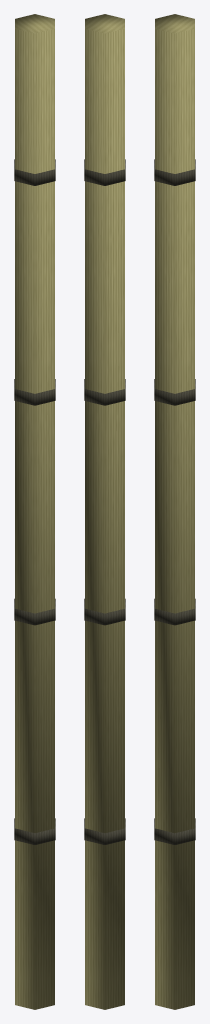
File: bung-stake.glb
3 views of the same model, side by side, from view 1: azimuth 30°, elevation 25°; view 2: azimuth 150°, elevation 25°; view 3: azimuth 330°, elevation 25° (orthographic).
Visible parts, largest first — view 1: bung-stake; view 2: bung-stake; view 3: bung-stake.
Part boxes in pixels (left/top/right/bottom): bung-stake: left=14, top=14, right=55, bottom=1009; bung-stake: left=84, top=14, right=125, bottom=1009; bung-stake: left=154, top=14, right=195, bottom=1009.
Bounding box in the file's own units: 0.088 × 2 × 0.0762.
Materials: 1 (1 with a texture image).
